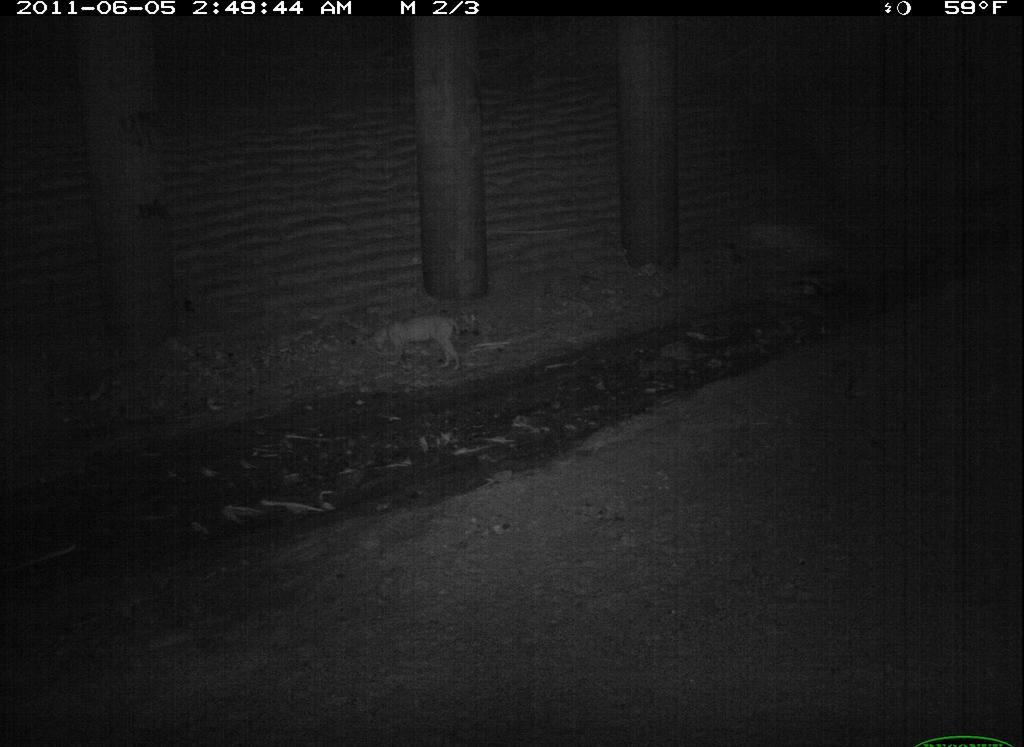bobcat: (734, 617, 930, 743)
